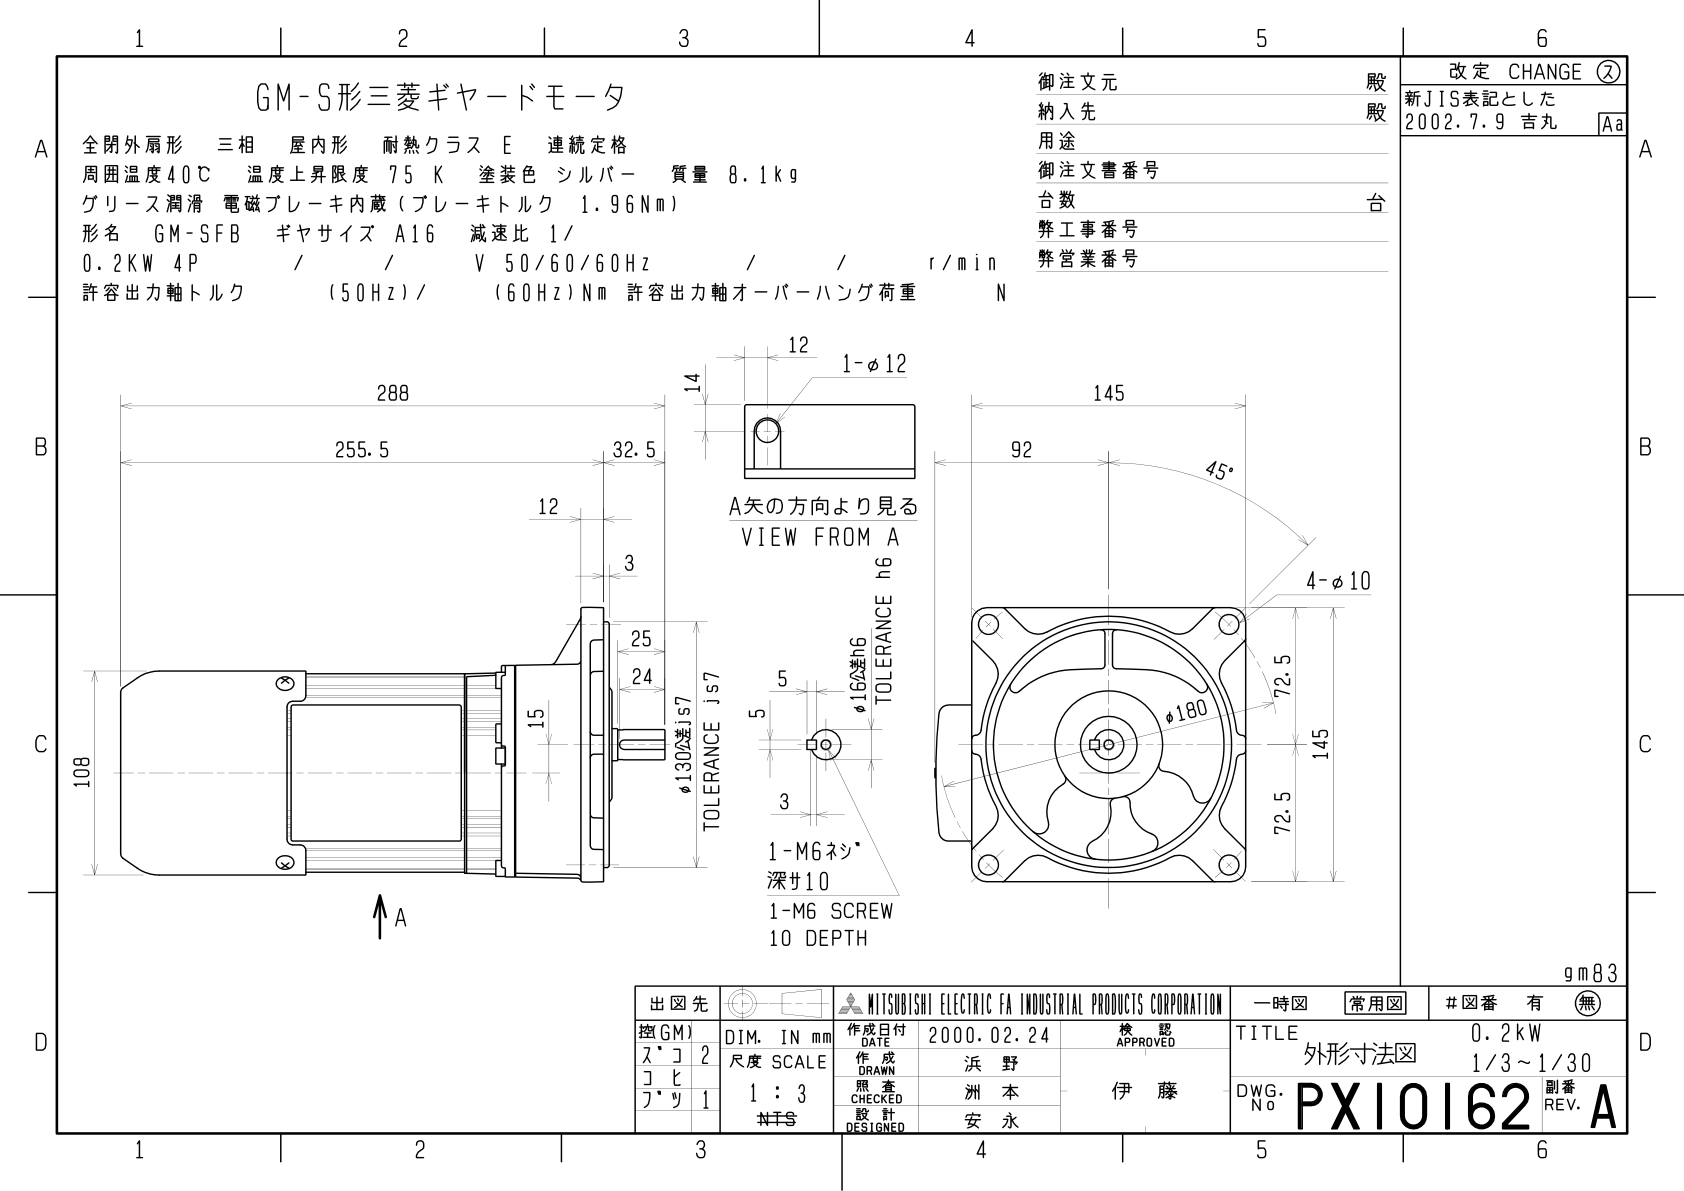GM_S_屋内＿三相_フランジ: (1, 1, 1653, 1186)
